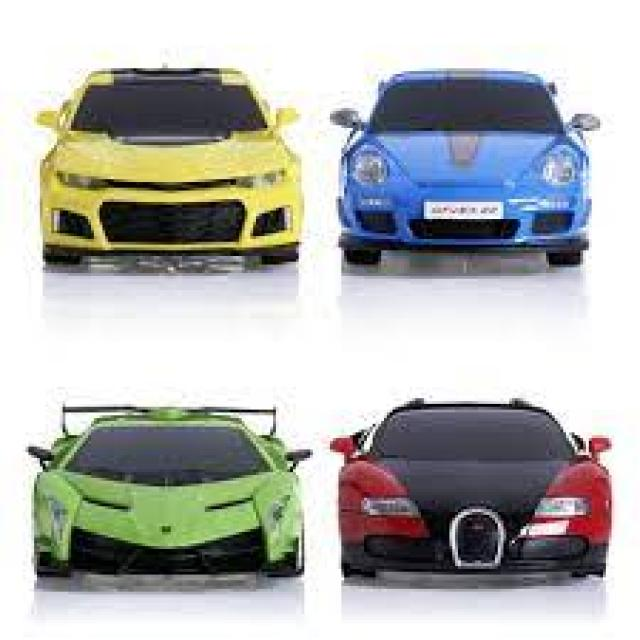Car: (34, 63, 304, 270), (327, 66, 600, 264), (327, 395, 612, 583), (26, 401, 310, 580)
